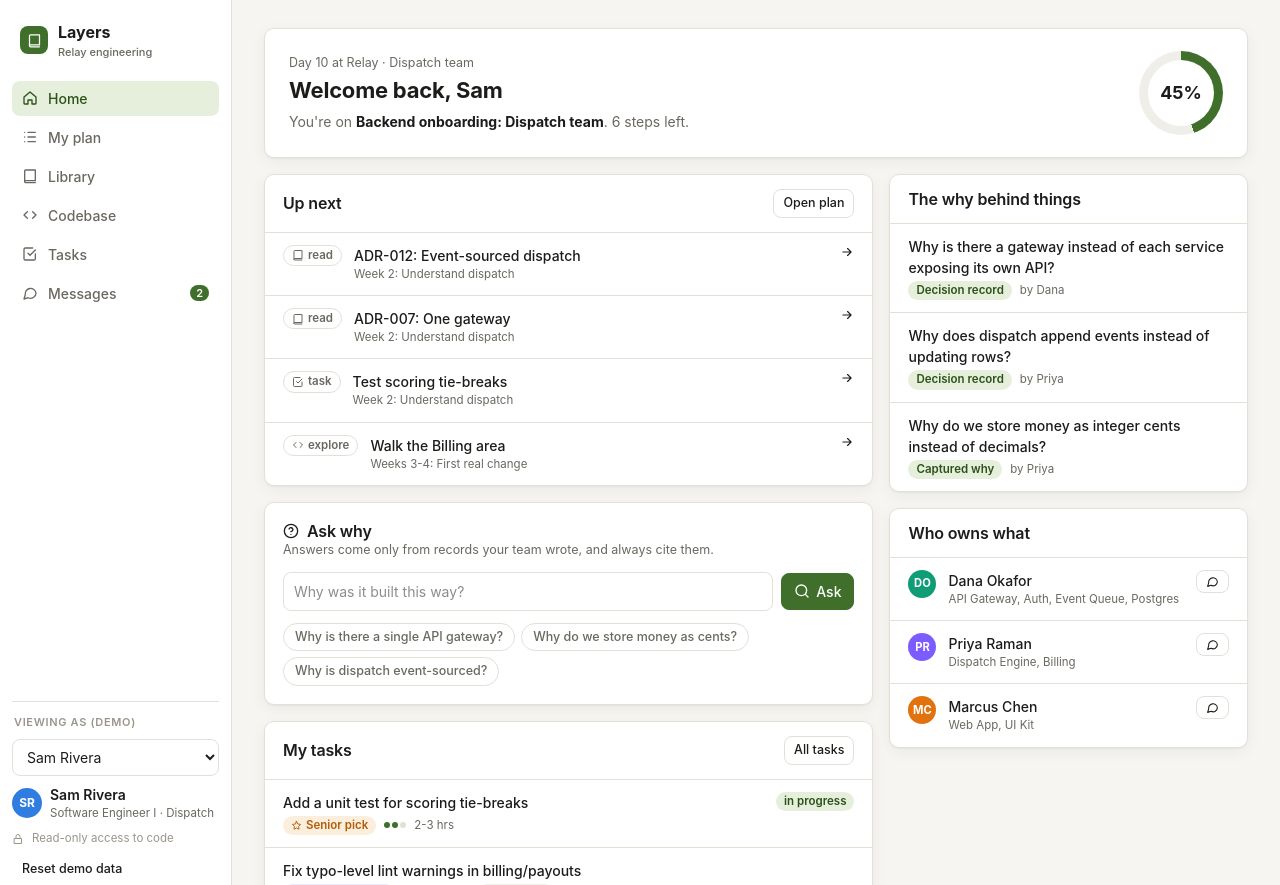
Scenario: AskWhy › answers from a team record and cites it
The width and height of the screenshot is (1280, 885).
In the field with placeholder "Why was it built this way?": (528, 591) [283,572,773,610], type "Why do we store money as cents?"
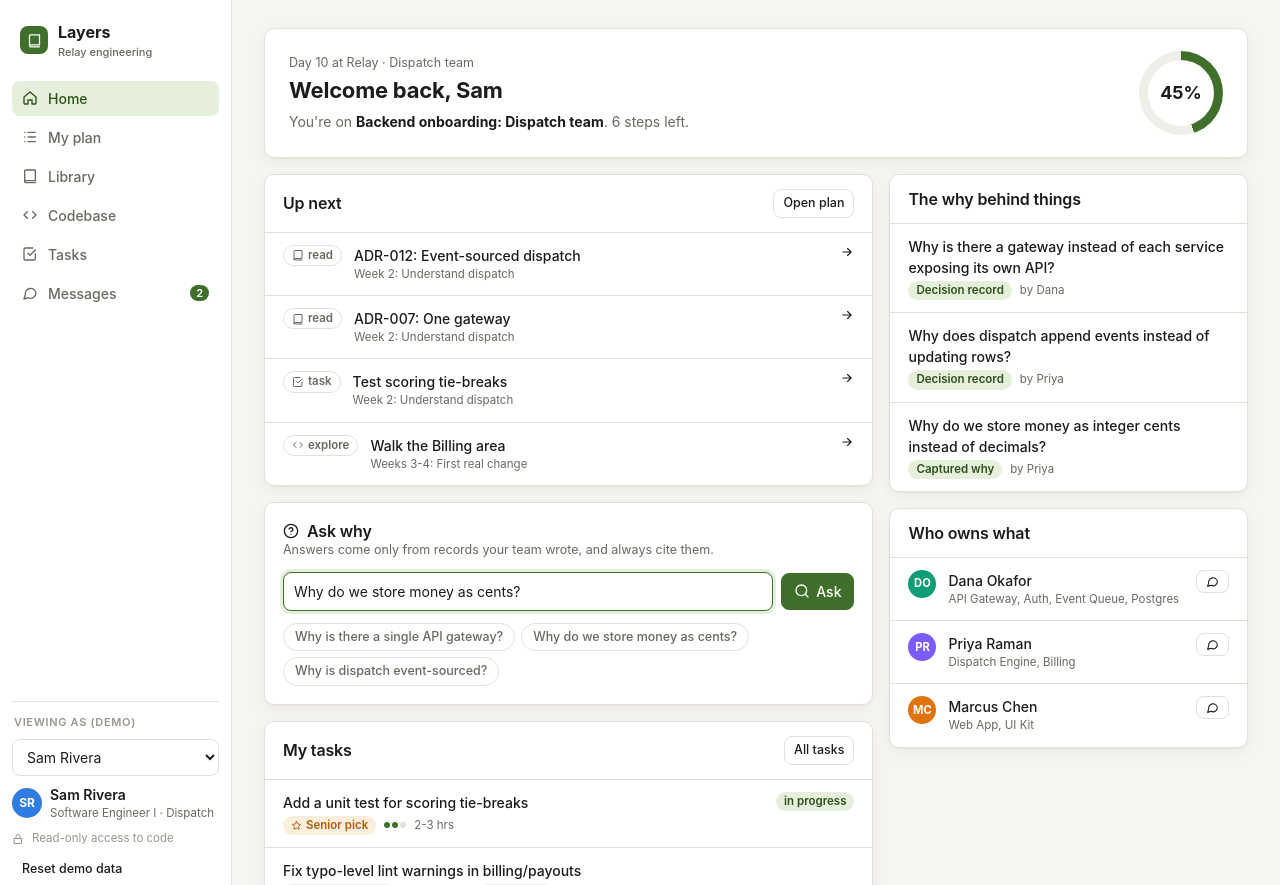
Click the button "Ask": (818, 591) [781,572,854,610]
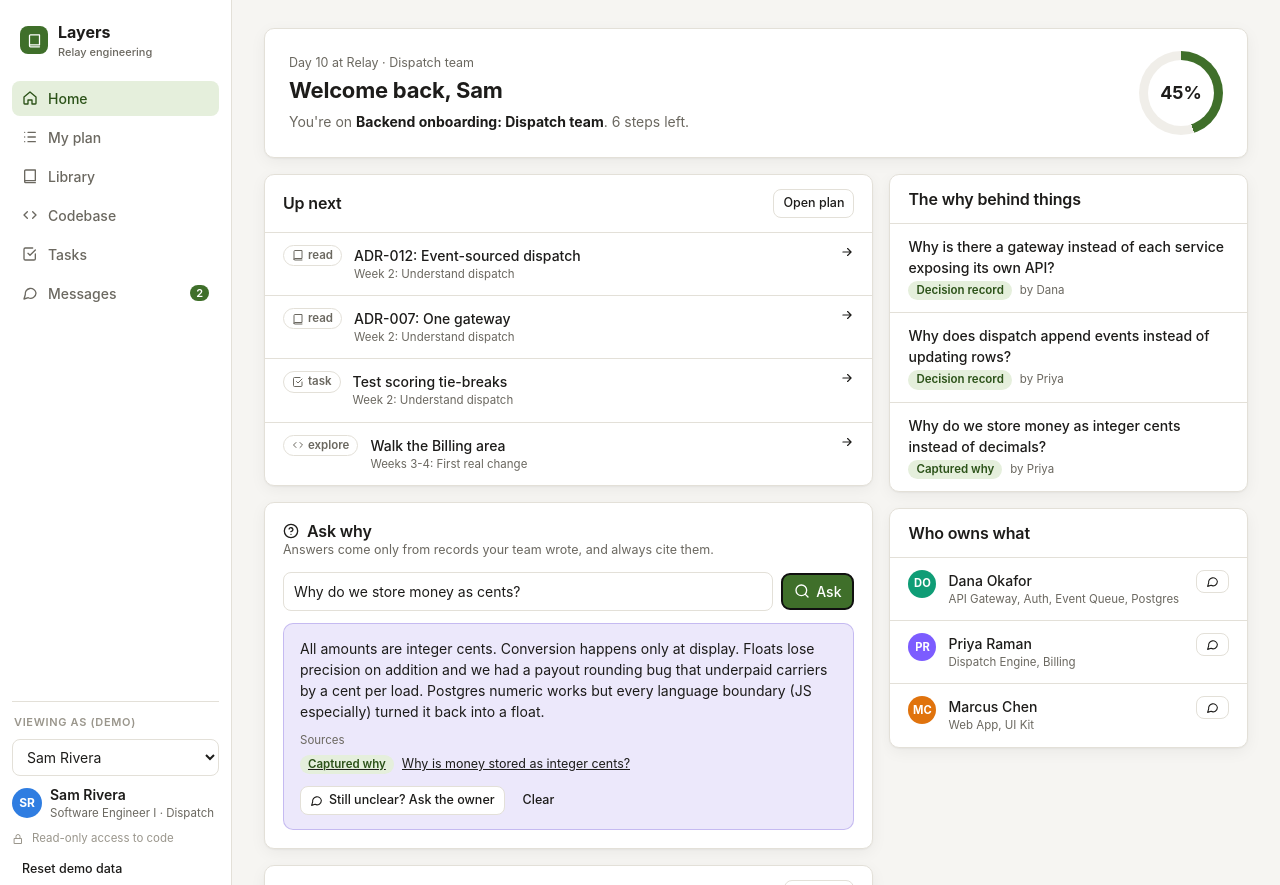
expect the text "Sources" is shown: met, box [300,732,345,746]
